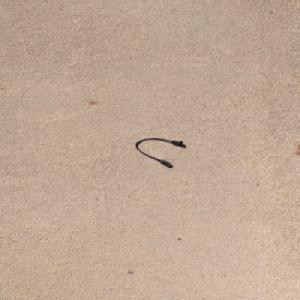Wire: (134, 137, 183, 167)
